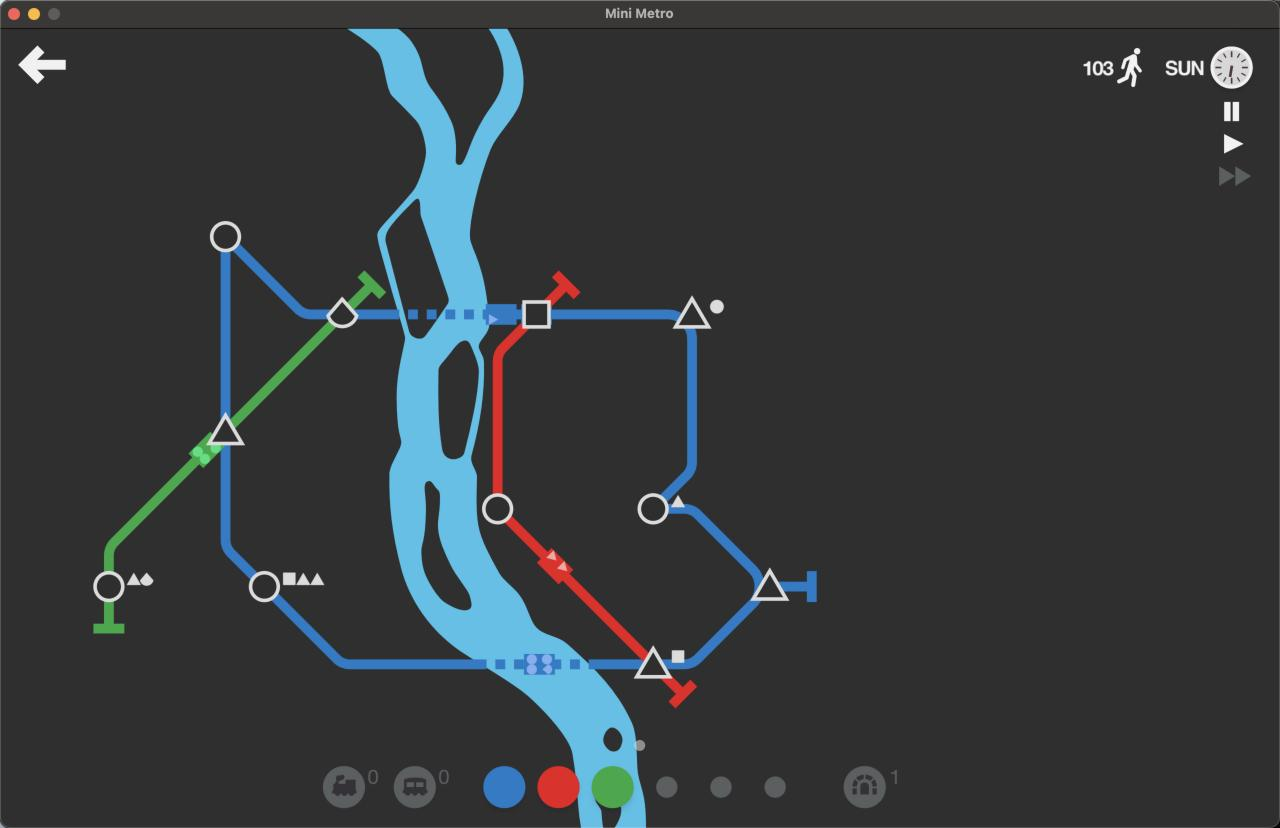CIRCLE: (637, 492, 670, 526), (92, 570, 126, 603), (481, 492, 514, 525), (248, 570, 281, 603), (209, 220, 241, 254)
SQUARE: (520, 299, 552, 329)
TRIANGLE: (633, 644, 674, 681), (672, 295, 713, 330), (750, 567, 789, 603), (207, 412, 246, 447)
WEDGE: (326, 297, 359, 329)
